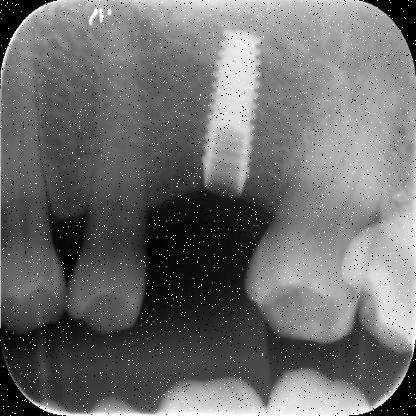Bicon: (178, 26, 282, 206)
